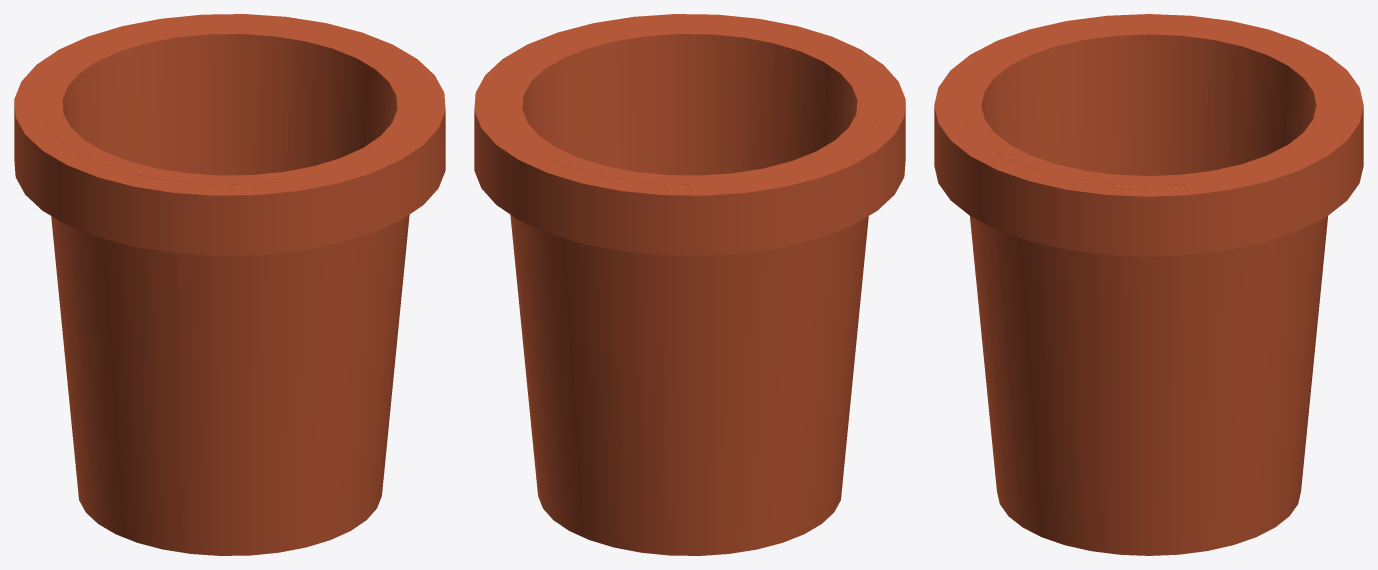
The model's file is pot.gltf.
3 views of the same model, side by side, from view 1: azimuth 30°, elevation 25°; view 2: azimuth 150°, elevation 25°; view 3: azimuth 270°, elevation 25° (orthographic).
Visible parts, largest first — view 1: 화분_몸통, 화분_데코; view 2: 화분_몸통, 화분_데코; view 3: 화분_몸통, 화분_데코.
Boxes of the visible parts, x1=… form: 화분_몸통: x1=40, y1=24, x2=419, y2=555; 화분_데코: x1=14, y1=14, x2=445, y2=255; 화분_몸통: x1=500, y1=24, x2=879, y2=555; 화분_데코: x1=474, y1=14, x2=905, y2=255; 화분_몸통: x1=959, y1=25, x2=1338, y2=555; 화분_데코: x1=934, y1=14, x2=1363, y2=256.
Bounding box in the file's own units: 2.28 × 2.24 × 2.26.
Materials: 2 (2 with a texture image).
